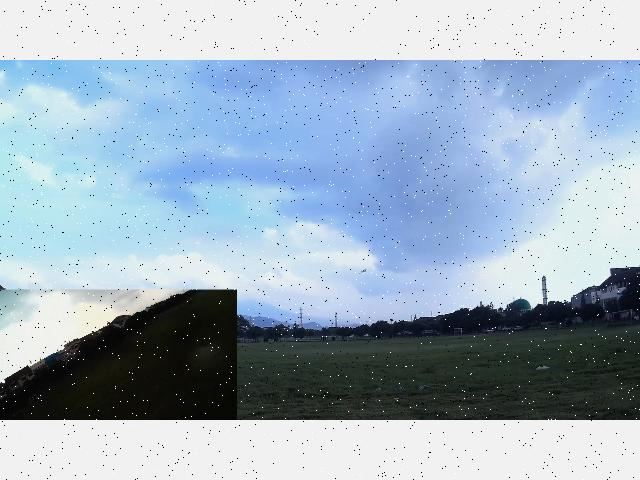Anti-Drone: (350, 266, 382, 283)
